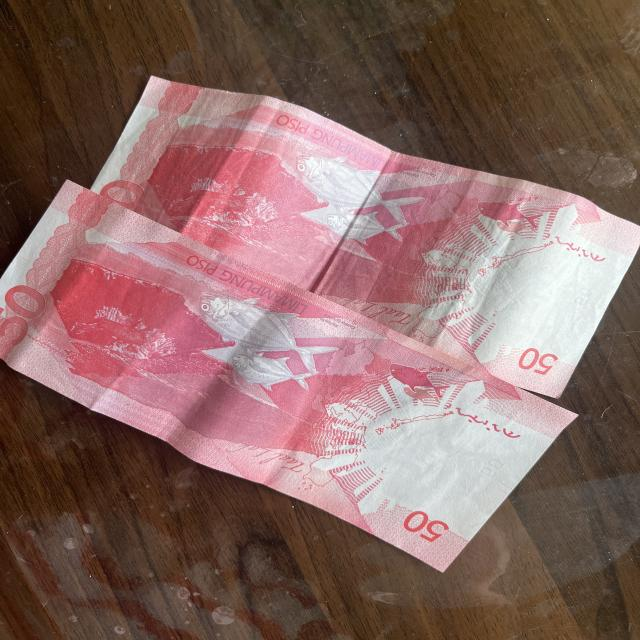50_maliputo: (176, 280, 331, 408), (291, 147, 420, 254)
50_maliputo_watermark: (467, 191, 550, 237), (376, 360, 459, 405)
value_watermark: (474, 452, 505, 478), (567, 286, 595, 310)
watermark: (354, 400, 509, 522)
